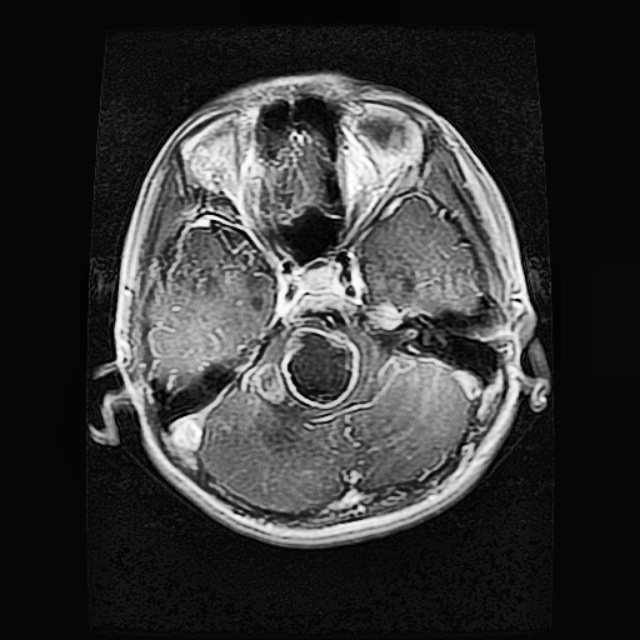Glioma: (283, 325, 357, 408)
